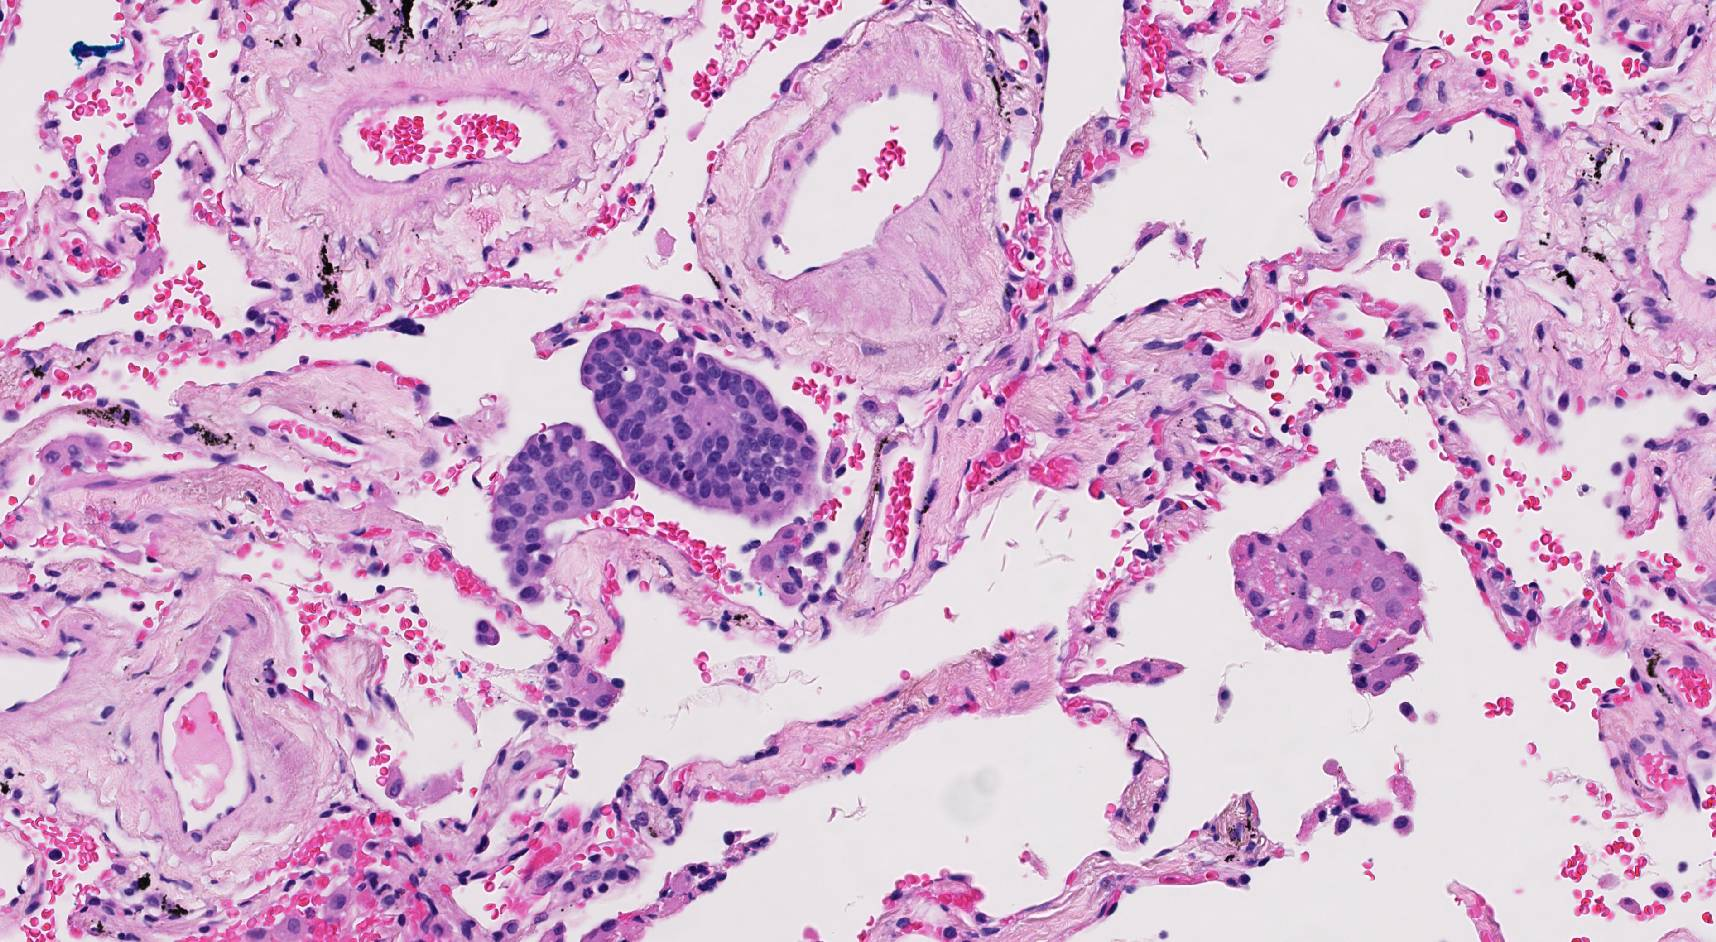stas: (582, 326, 822, 520), (488, 421, 638, 604)
